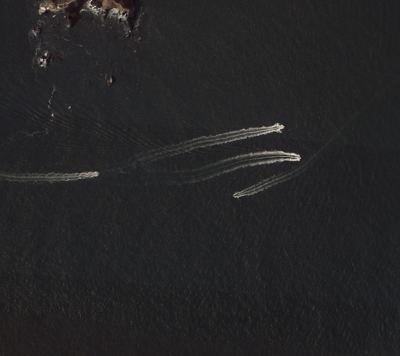boat: (296, 157, 302, 160), (233, 195, 237, 198), (68, 106, 71, 110), (281, 126, 286, 128), (97, 174, 100, 175)
